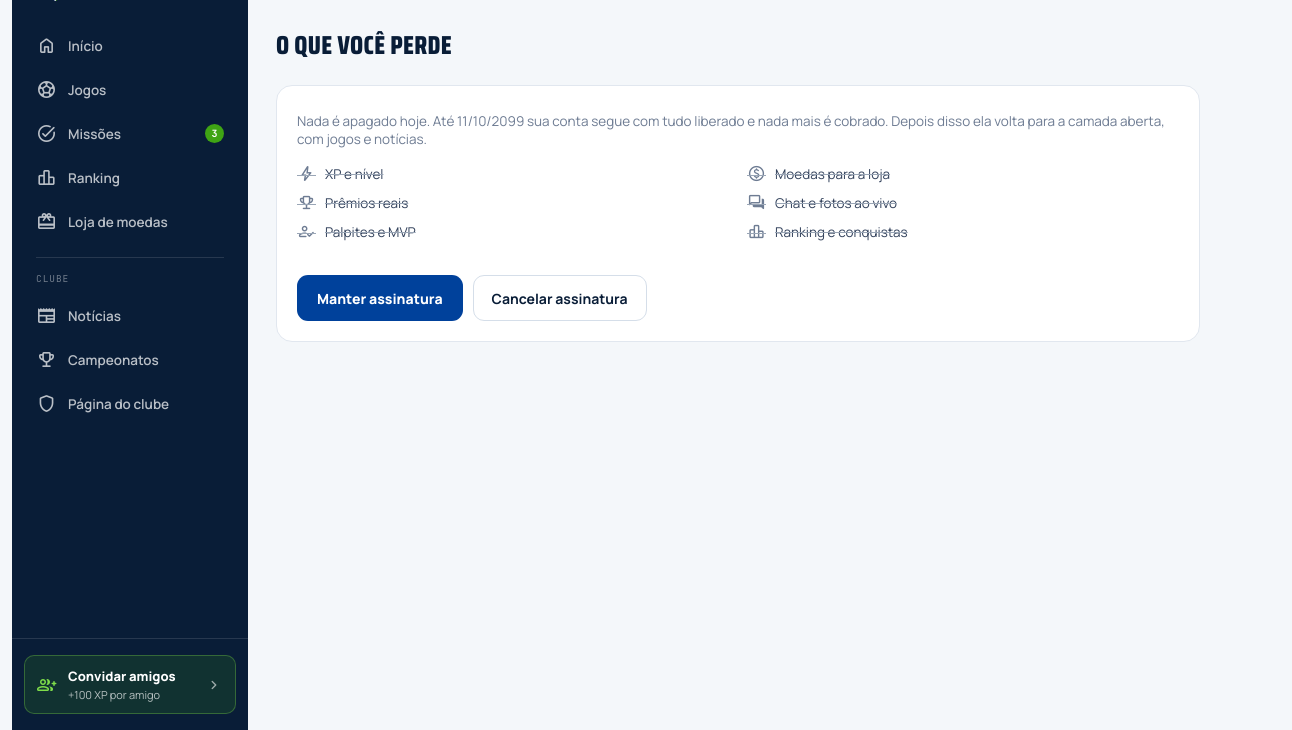
Scenario: gestão da assinatura do web app › se o cancelamento falhar, avisa e continua na tela
This screenshot has width=1292, height=730.
What coordinates should you click on to do the following:
click the button "Cancelar assinatura"
I would click on:
 (560, 298)
Its box is [473,275,647,321].
(page scrolled)
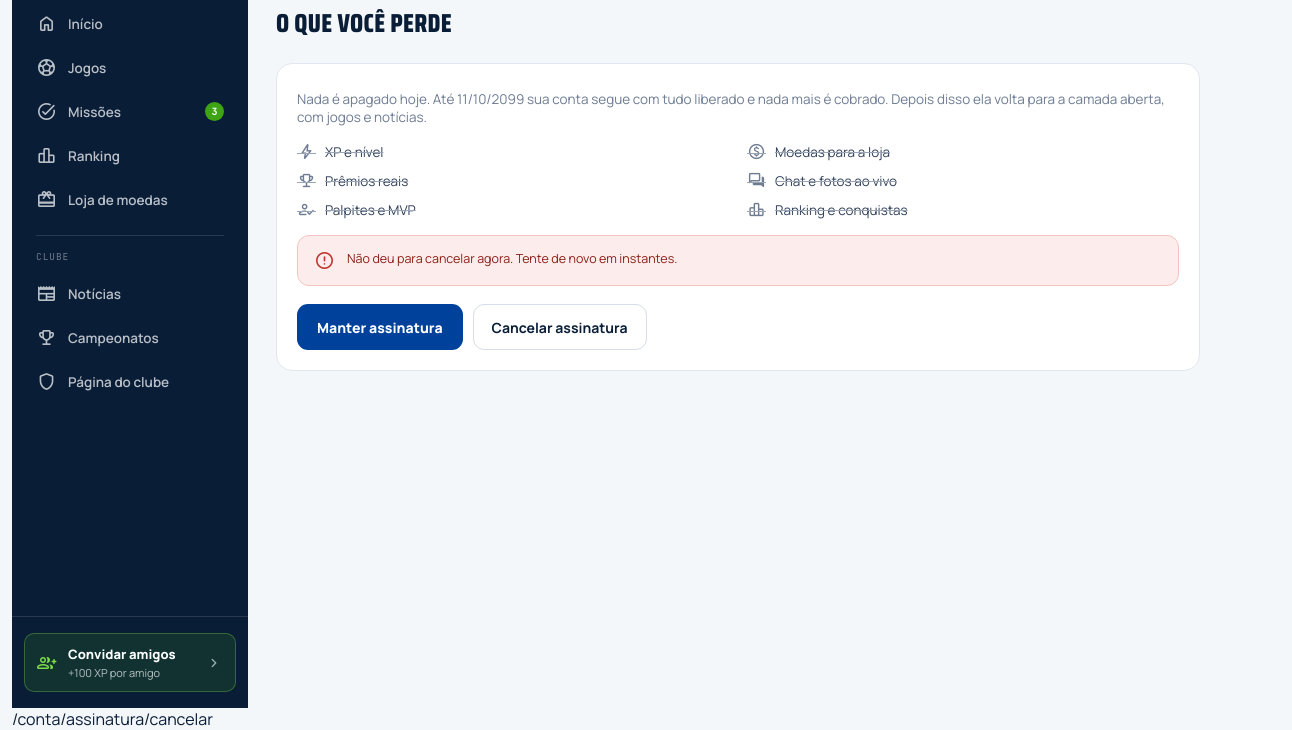
Expected: the text with test id "local" reads "/conta/assinatura/cancelar", [12,708,213,729]
Result: the message shows "Não deu para cancelar agora" at [347,250,677,267]
